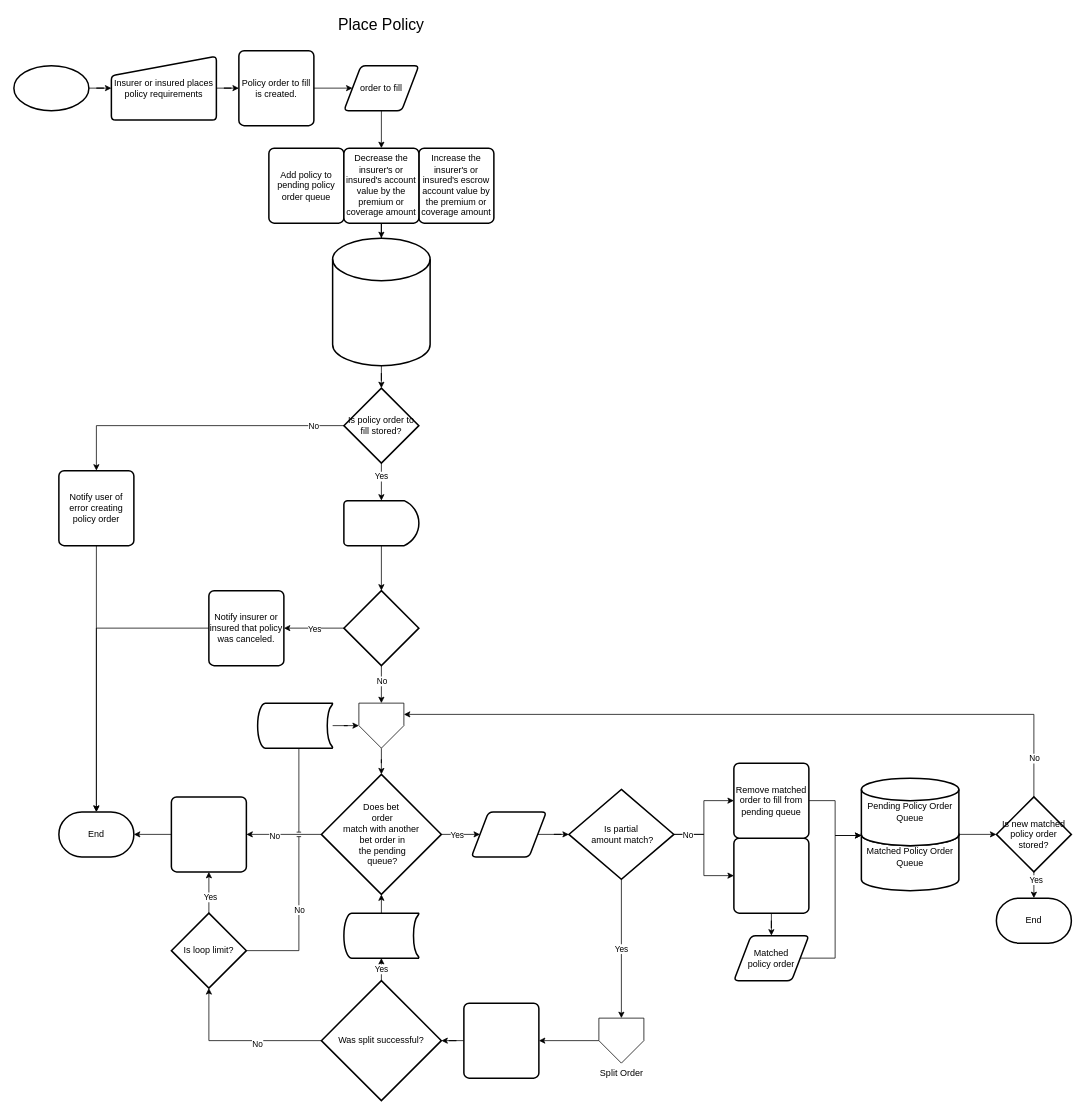
The diagram is 1085 pixels wide and 1114 high, and some of its shapes have lost their labels. The shapes that lost their labels are listed below. From the top down, each one's centre as x and y in pixels, then its label:
(51,87): Start
(381,301): Insurer's or insured's account value, escrow value, and order to fill storage
(381,523): Delay matching for 60 seconds
(381,628): Did insurer or insured cancel order?
(294,725): original order to fill
(381,725): Match order to fill
(208,834): Notify insurer or insured that policy is waiting to be matched
(508,834): Matched order to fill
(771,875): Create matched policy and add to matched queue
(381,935): new order to fill
(501,1040): Notify insured or insurer that partial amount of their order has been filled
